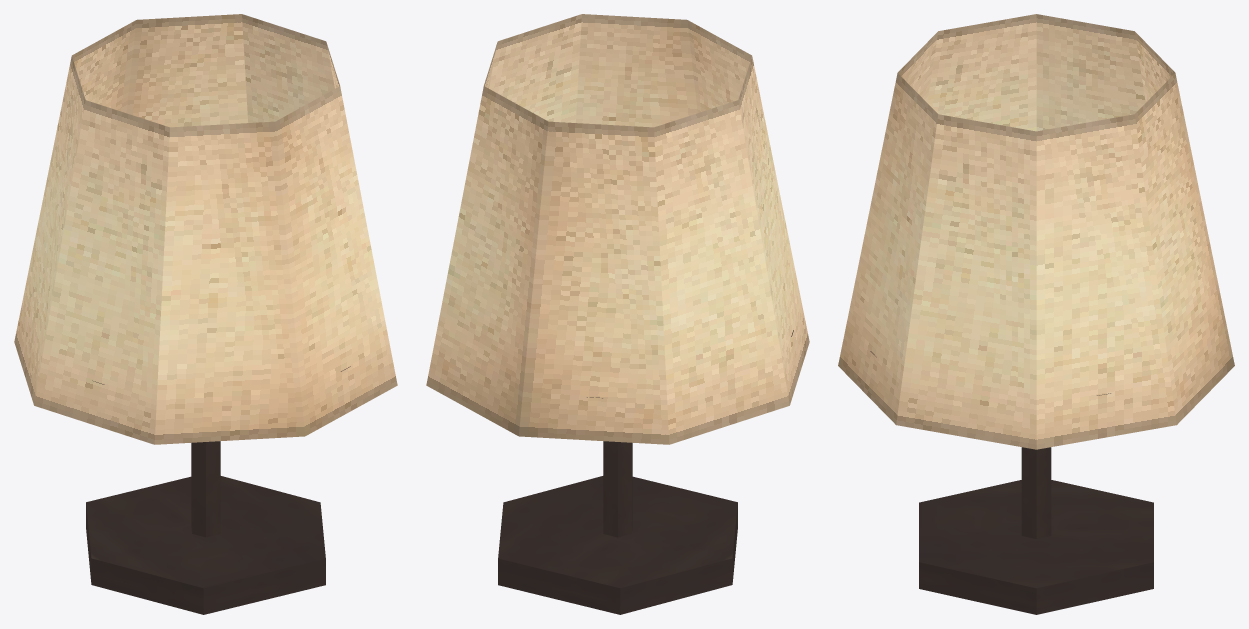
File: table_lamp.glb
3 renders of one model, left to right at view 1: azimuth 30°, elevation 25°; view 2: azimuth 150°, elevation 25°; view 3: azimuth 270°, elevation 25°, orthographic.
Parts seen in each view (by area): view 1: Lamp; view 2: Lamp; view 3: Lamp.
Boxes of the visible parts, x1,y1,x2,y2 form: Lamp: (14, 14, 397, 614); Lamp: (426, 14, 809, 614); Lamp: (838, 14, 1234, 614).
Bounding box in the file's own units: 0.27 × 0.365 × 0.27.
2 materials, 2 textured.
